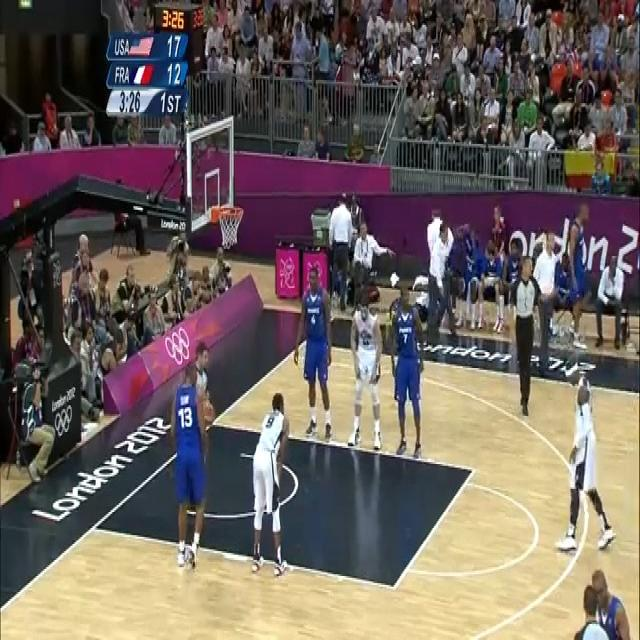basketball: (203, 397, 215, 425)
hoop: (218, 205, 244, 247)
person: (554, 372, 612, 556), (172, 346, 214, 572), (251, 391, 290, 575), (294, 266, 332, 442), (392, 279, 426, 458), (347, 284, 383, 451), (512, 258, 546, 418), (330, 191, 359, 310), (427, 213, 452, 343), (526, 114, 554, 151), (41, 90, 58, 148), (57, 115, 81, 148), (297, 121, 316, 159), (82, 113, 103, 147), (111, 114, 132, 145), (160, 112, 178, 146), (32, 120, 51, 152), (314, 126, 330, 160)
